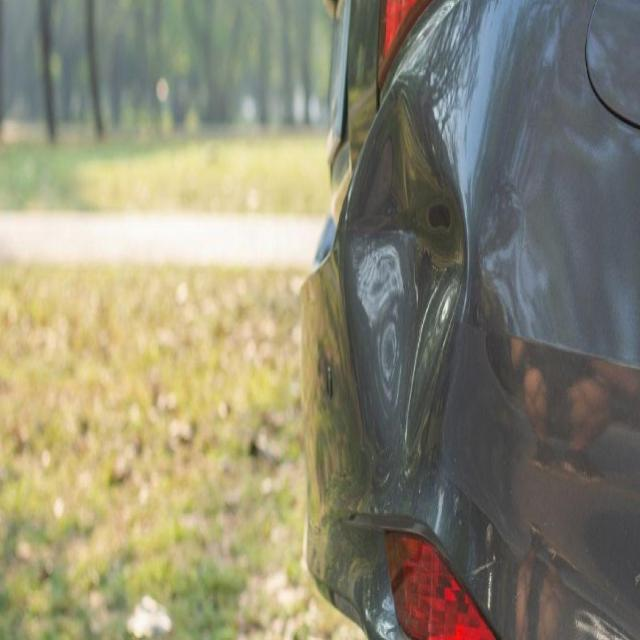dent: (332, 71, 475, 550)
